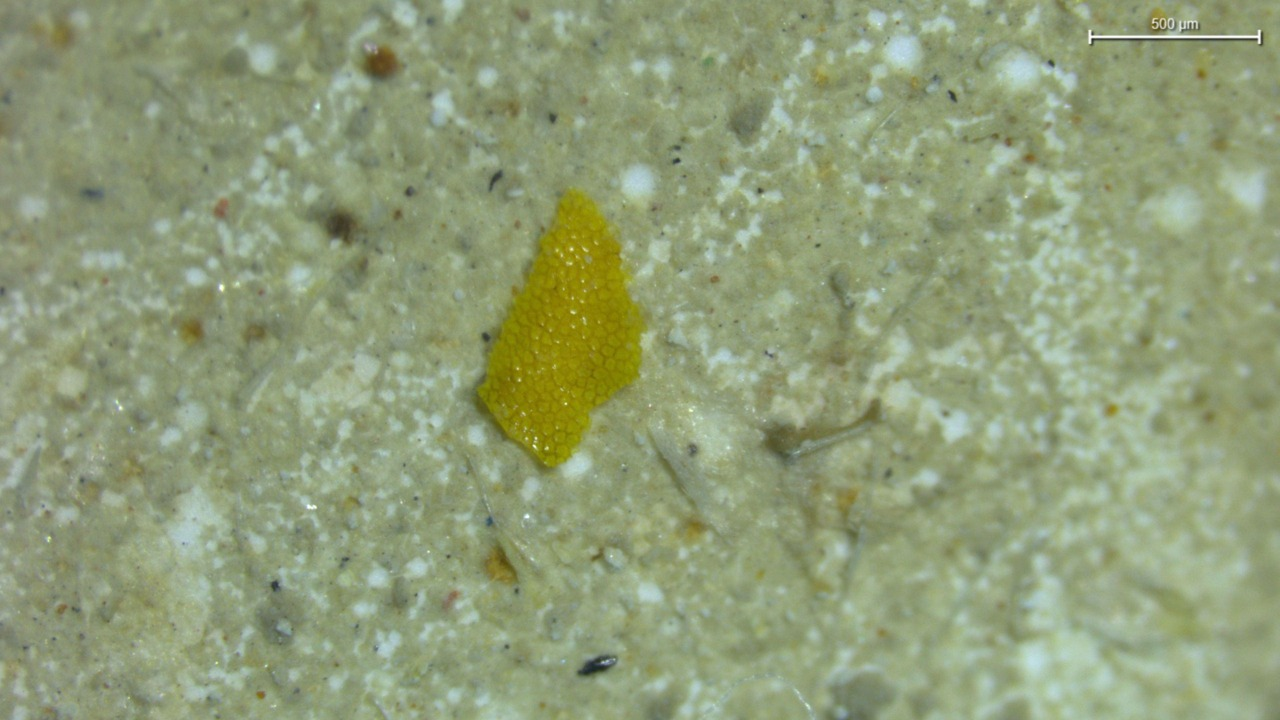microplastic_fragment: (478, 190, 644, 466)
